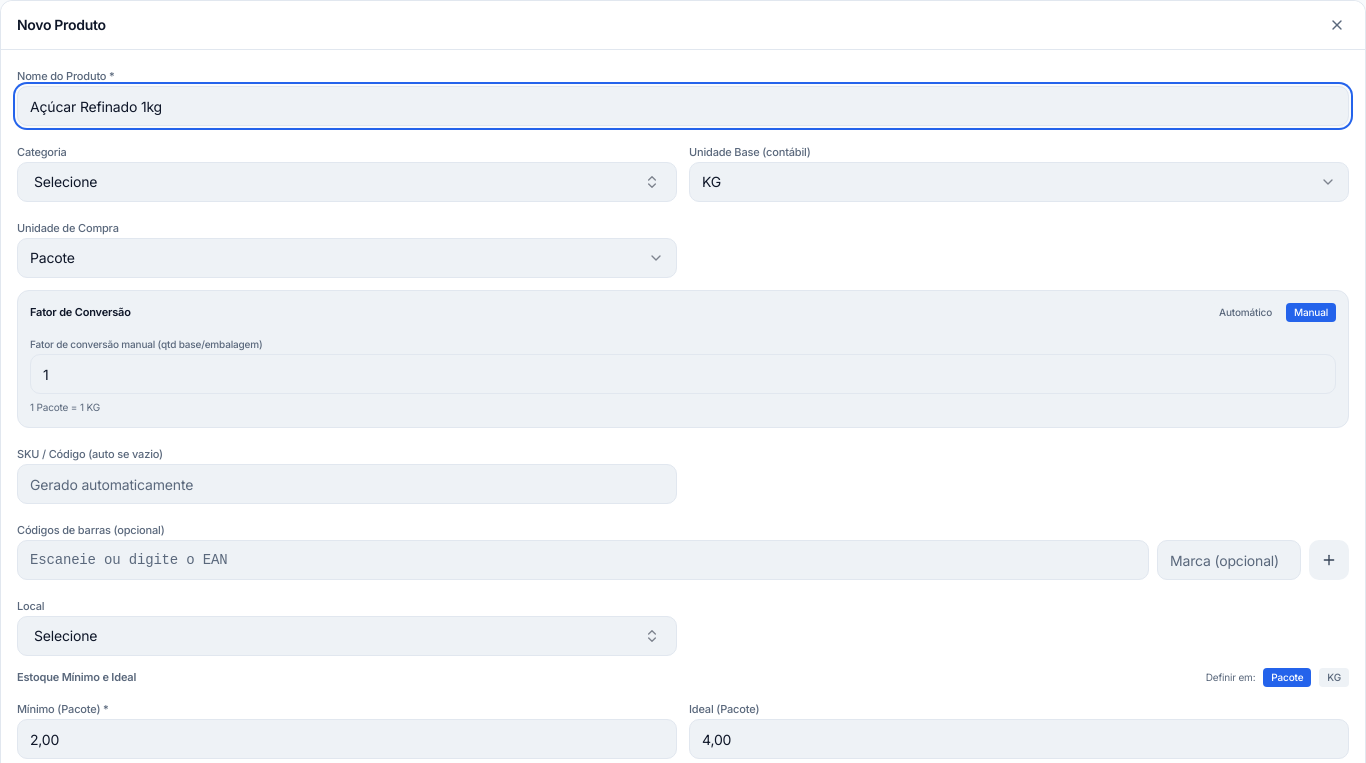
Test: lista de códigos de barras › guarda marcas diferentes do mesmo produto
Step 1. Type "7891234567890" into the field named "Código de barras" → x=583, y=560, box [17,540,1149,580]
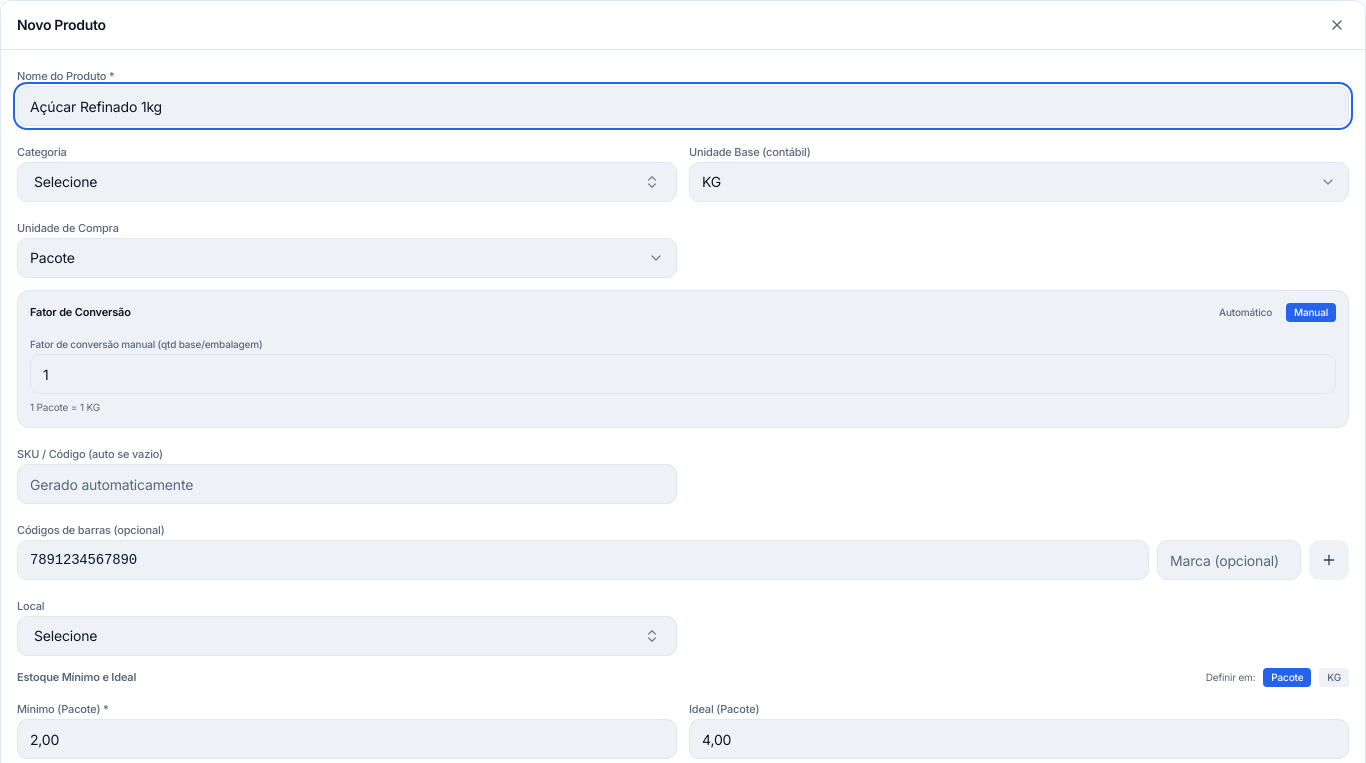
Step 2. Type "União" into the field named "Marca do código de barras" → x=1229, y=560, box [1157,540,1301,580]
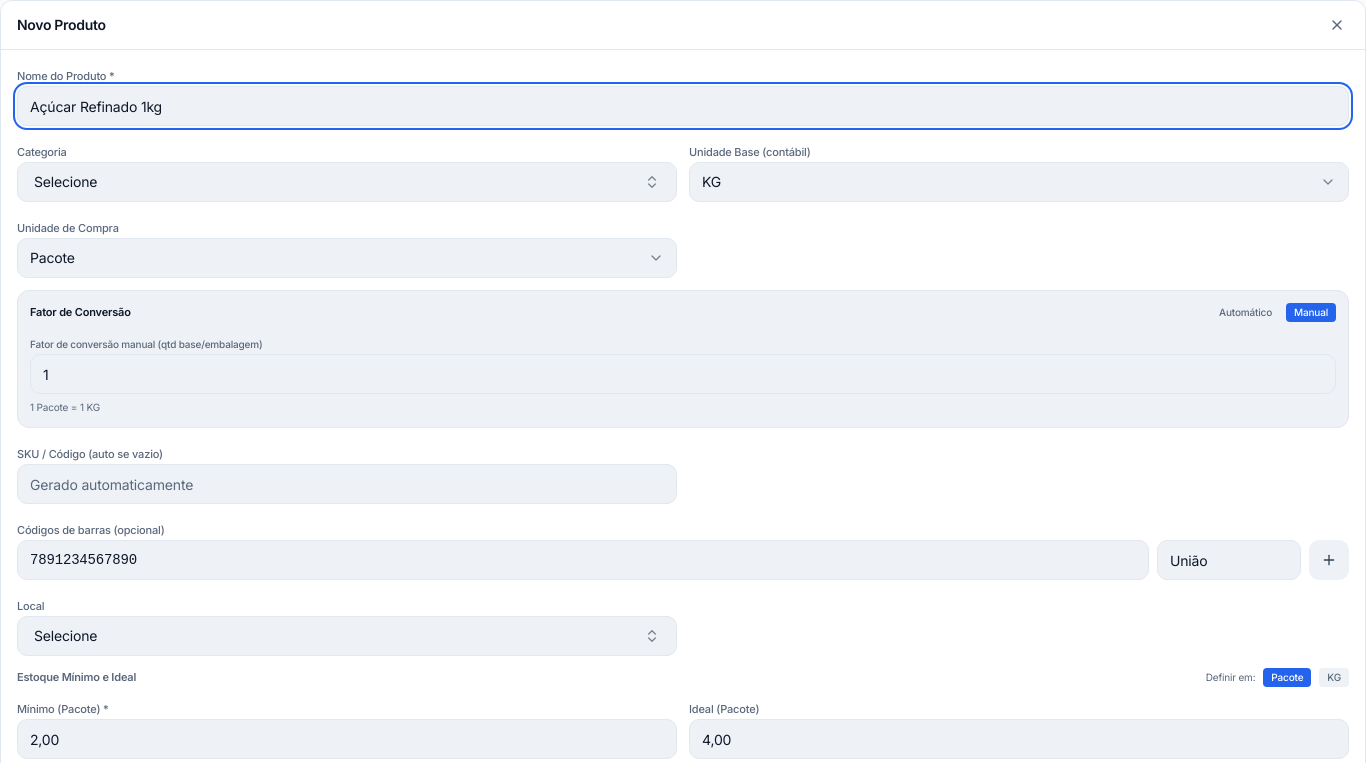
Step 3. Click the button named "Adicionar código de barras" → x=1329, y=560, box [1309,540,1349,580]
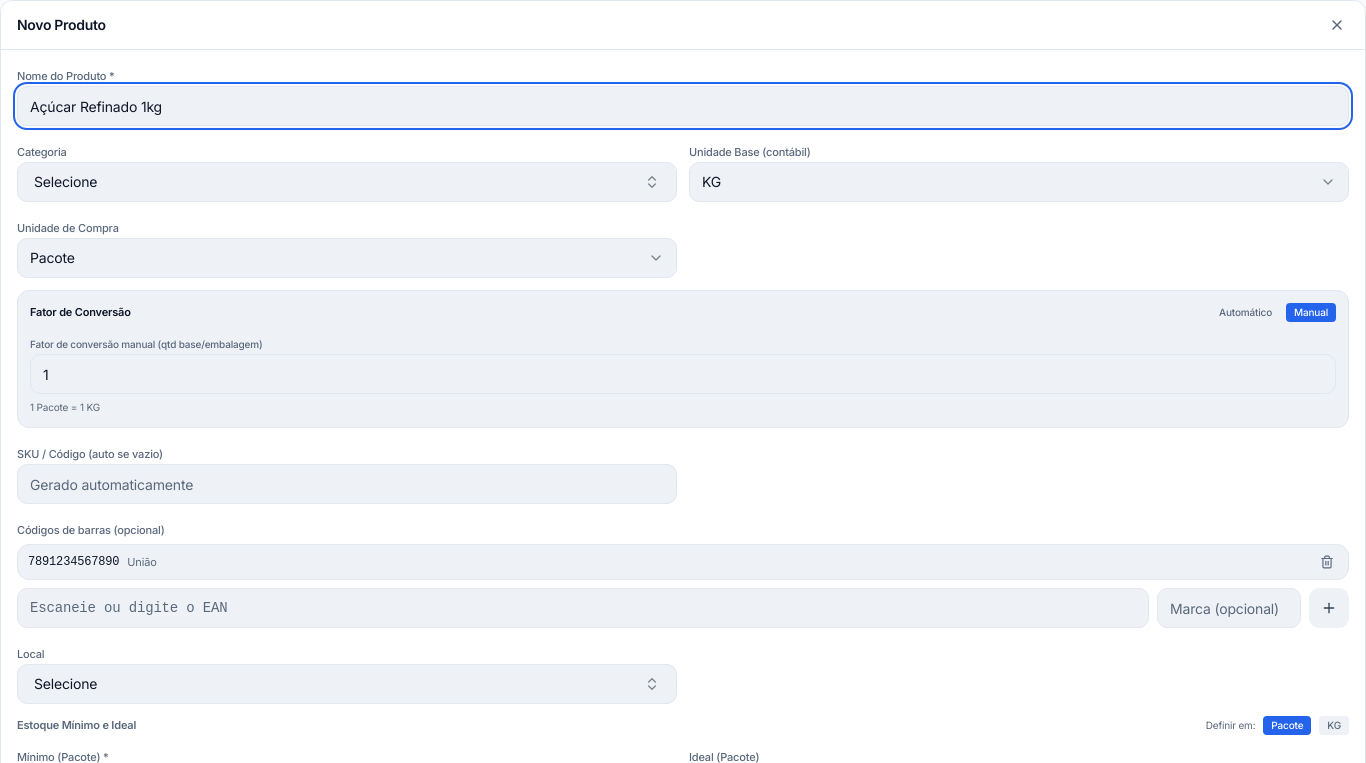
Step 4. Type "7890000000017" into the field named "Código de barras" → x=583, y=608, box [17,588,1149,628]
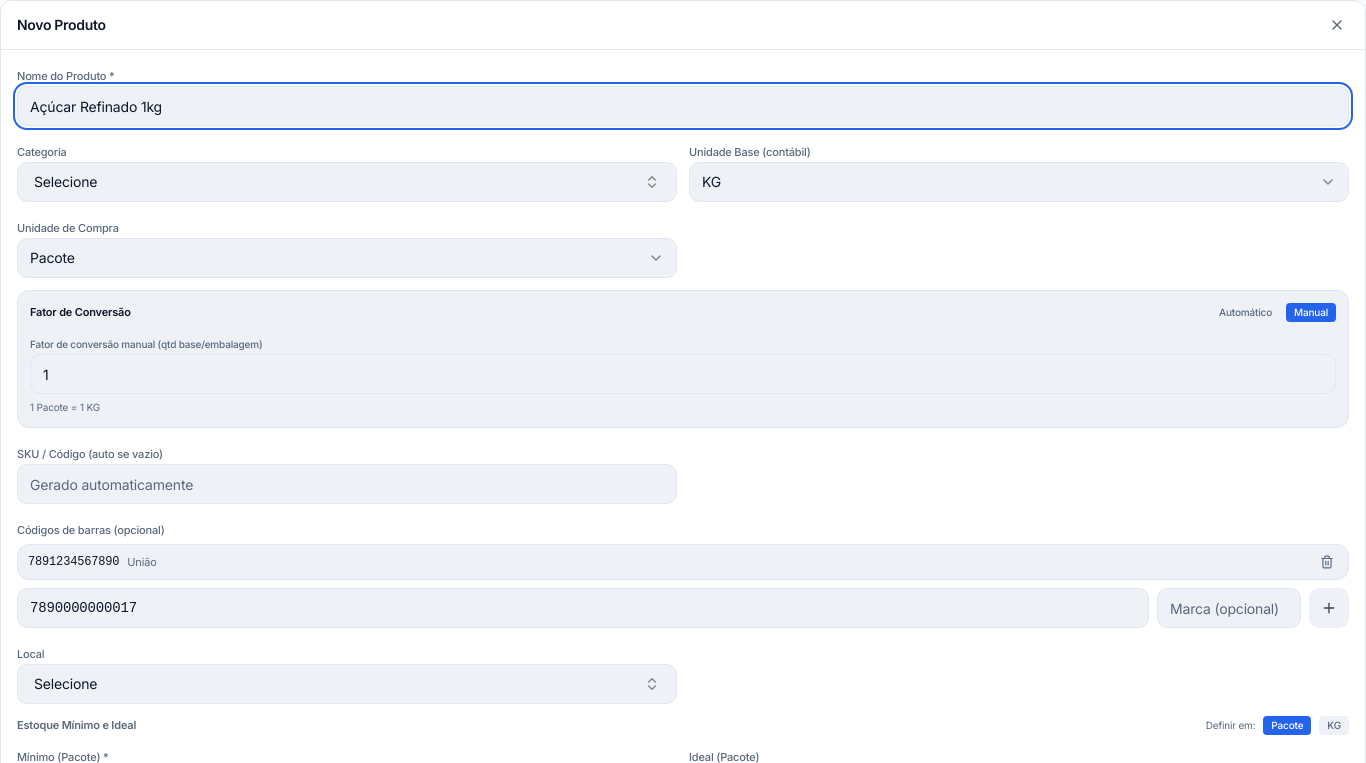
Step 5. Type "Caravelas" into the field named "Marca do código de barras" → x=1229, y=608, box [1157,588,1301,628]
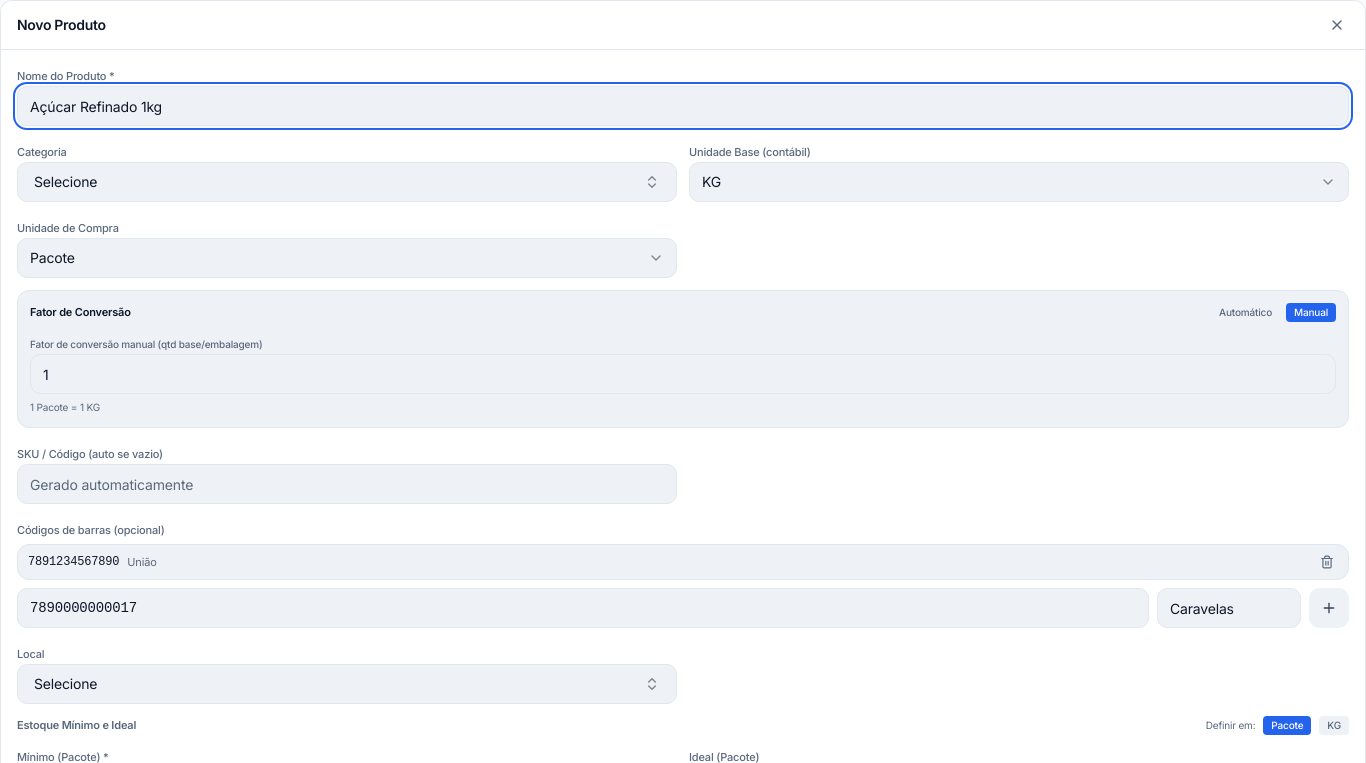
Step 6. Click the button named "Adicionar código de barras" → x=1329, y=608, box [1309,588,1349,628]
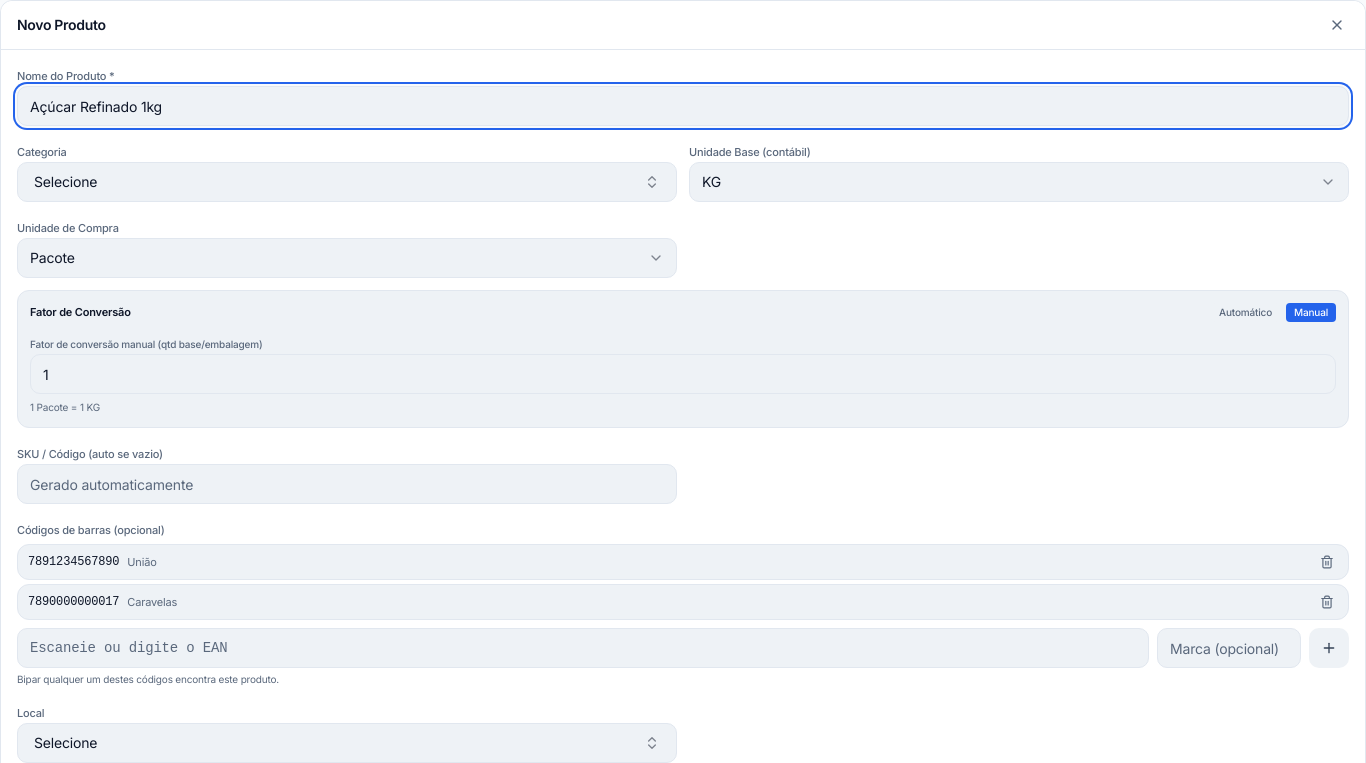
Expected: the text "7891234567890" is shown, [28,554,119,570]
Expected: the text "7890000000017" is shown, [28,594,119,610]
Expected: the text "Bipar qualquer um destes códigos encontra este produto." is shown, [17,673,279,685]
